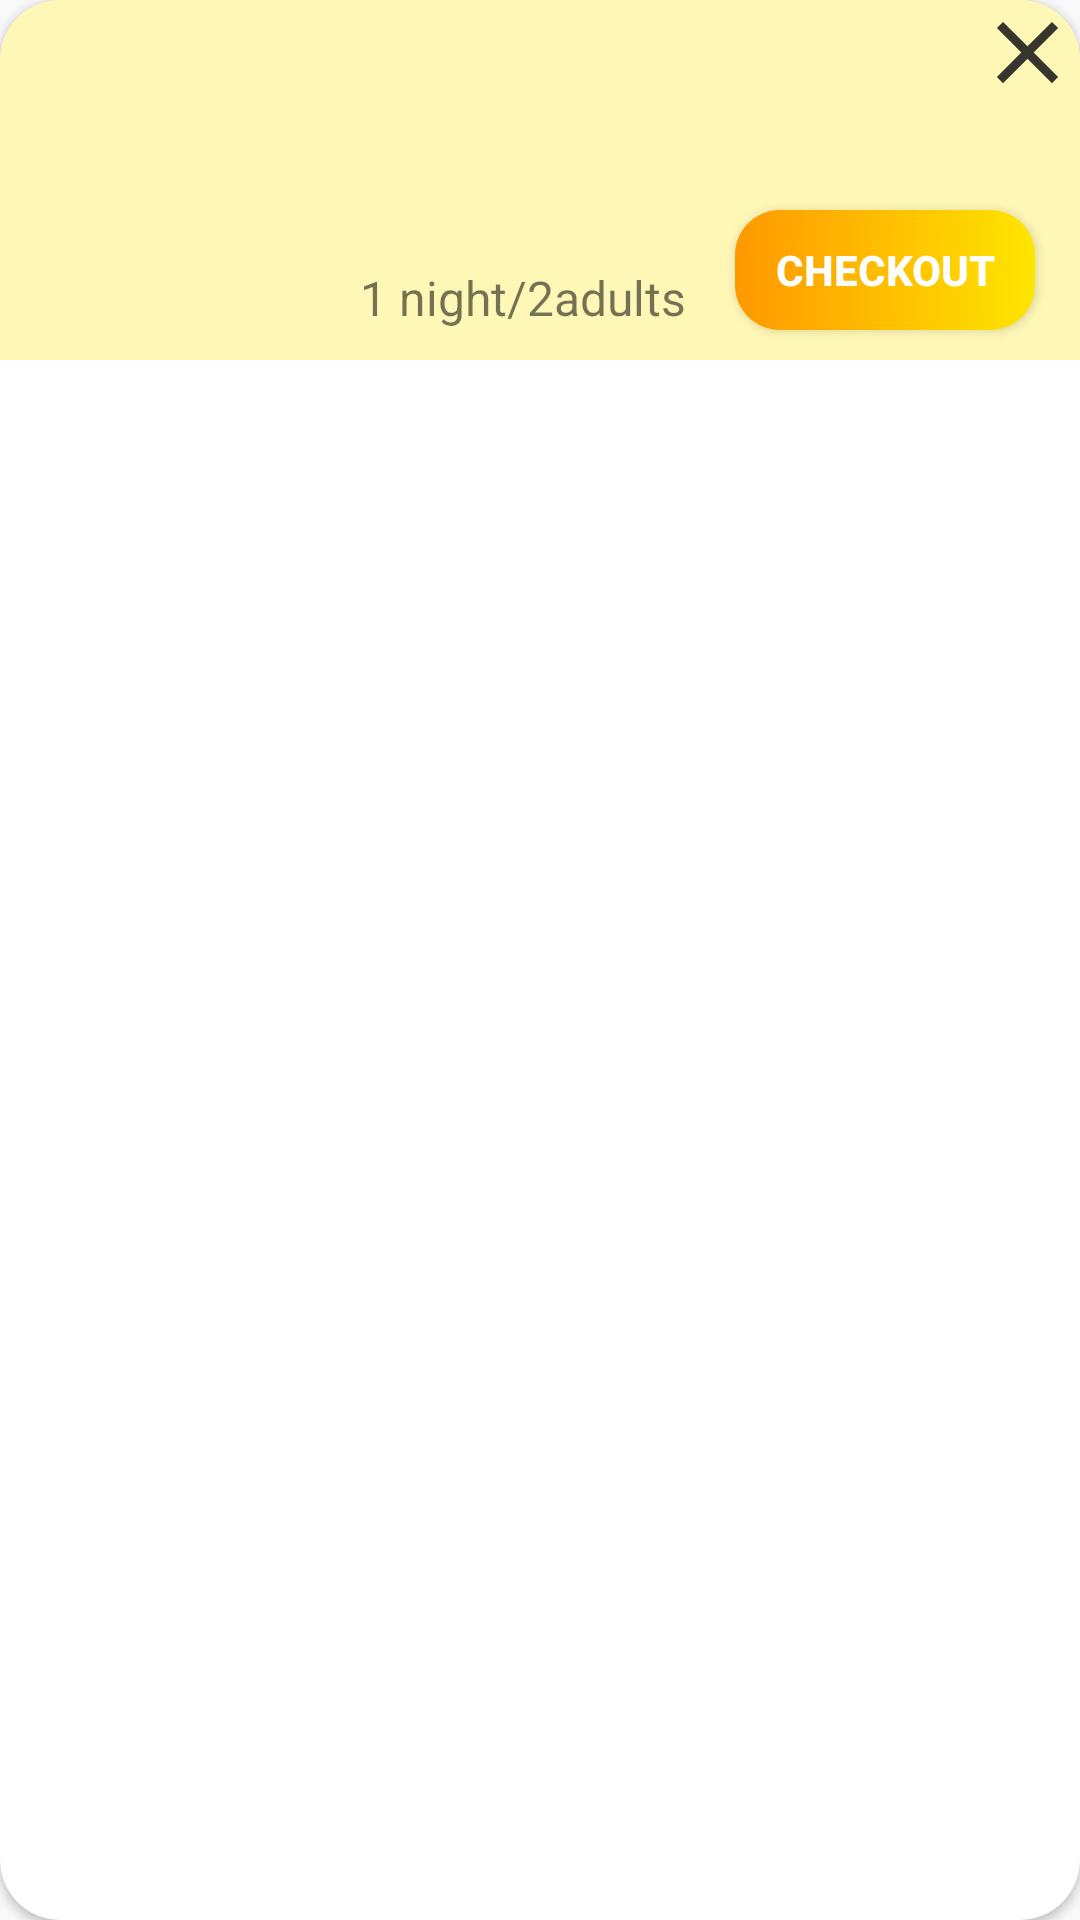

Screen size 1080px x 1920px. Icon name, then its center in pixels as point (x, y):
close: point (1038, 41)
